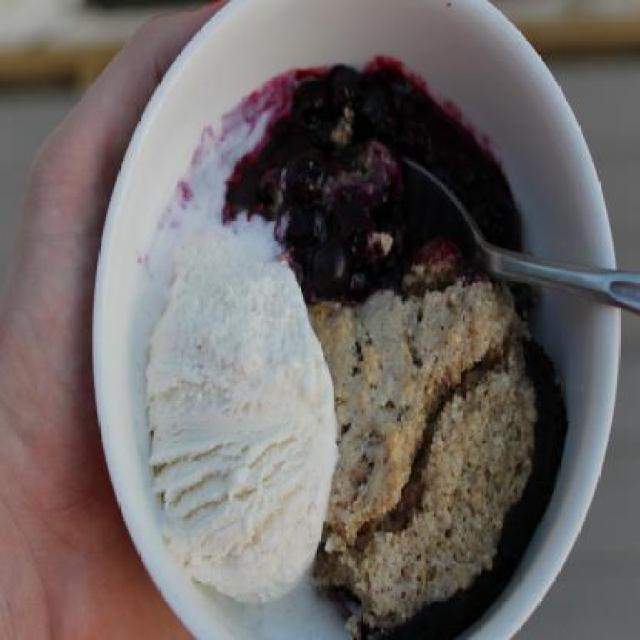Ice cream: (141, 62, 570, 640)
